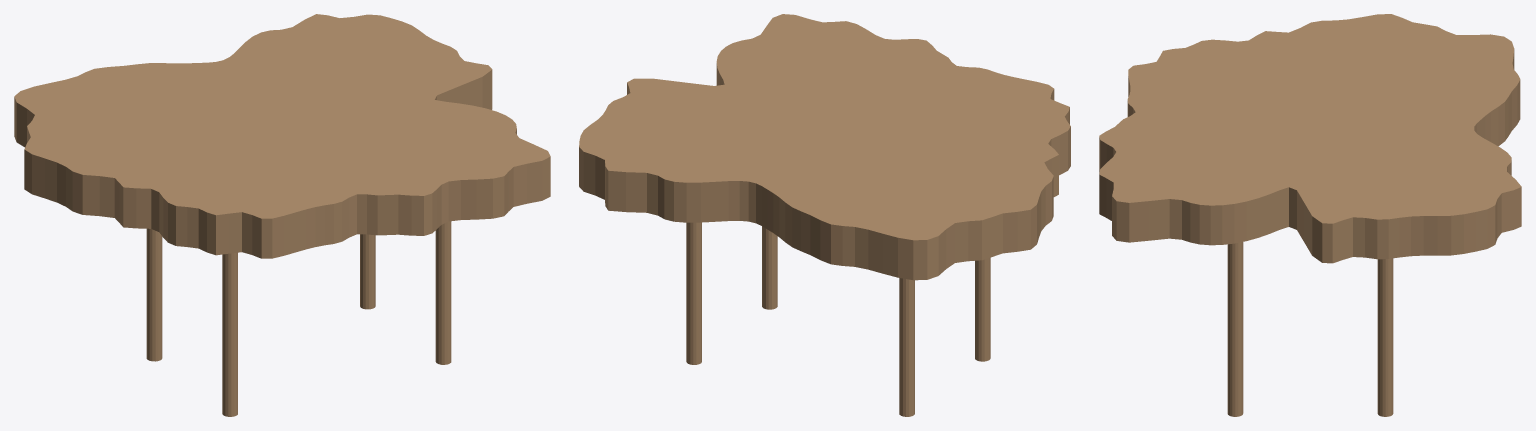
The model's file is mesa_v02_sin_tapete.glb.
3 views of the same model, side by side, from view 1: azimuth 30°, elevation 25°; view 2: azimuth 150°, elevation 25°; view 3: azimuth 270°, elevation 25° (orthographic).
Parts seen in each view (by area): view 1: Tapa_Organica_V2, Pata_V1_1, Pata_V1_2, Pata_V1_3, Pata_V1_4; view 2: Tapa_Organica_V2, Pata_V1_4, Pata_V1_3, Pata_V1_1, Pata_V1_2; view 3: Tapa_Organica_V2, Pata_V1_2, Pata_V1_4.
Part boxes in pixels (<box>): Tapa_Organica_V2: <box>14,14,550,258</box>; Pata_V1_1: <box>222,252,237,416</box>; Pata_V1_2: <box>435,221,451,364</box>; Pata_V1_3: <box>146,228,162,361</box>; Pata_V1_4: <box>360,234,375,309</box>; Tapa_Organica_V2: <box>579,14,1070,280</box>; Pata_V1_4: <box>686,222,701,364</box>; Pata_V1_3: <box>899,278,914,416</box>; Pata_V1_1: <box>975,257,990,361</box>; Pata_V1_2: <box>762,226,777,309</box>; Tapa_Organica_V2: <box>1099,14,1521,263</box>; Pata_V1_2: <box>1227,242,1243,416</box>; Pata_V1_4: <box>1377,258,1393,416</box>.
Bounding box in the file's own units: 1.59 × 0.83 × 1.35.
